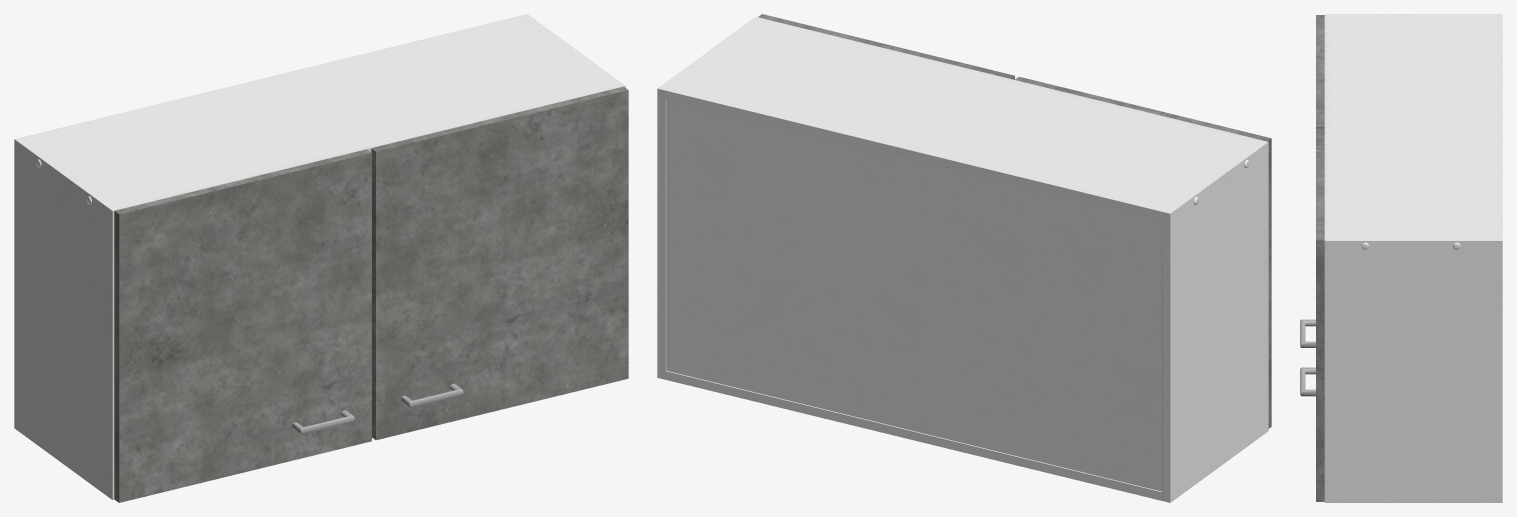
Rendered from kitchen3.glb.
3 renders of one model, left to right at view 1: azimuth 30°, elevation 25°; view 2: azimuth 150°, elevation 25°; view 3: azimuth 270°, elevation 25°, orthographic. The views are drawn at different scales.
Visible parts, largest first — view 1: #CPB0002_Wood_Gray_54x100x35_Wall_0, #CPB0002_Door_Left_2, #CPB0002_Door_Right_1; view 2: #CPB0002_Wood_Gray_54x100x35_Wall_0, #CPB0002_Door_Left_2, #CPB0002_Door_Right_1; view 3: #CPB0002_Wood_Gray_54x100x35_Wall_0, #CPB0002_Door_Right_1, #CPB0002_Door_Left_2.
Part boxes in pixels (x1=…): #CPB0002_Wood_Gray_54x100x35_Wall_0: x1=14, y1=14, x2=625, y2=499; #CPB0002_Door_Left_2: x1=114, y1=149, x2=371, y2=502; #CPB0002_Door_Right_1: x1=371, y1=86, x2=628, y2=440; #CPB0002_Wood_Gray_54x100x35_Wall_0: x1=657, y1=17, x2=1268, y2=502; #CPB0002_Door_Left_2: x1=1015, y1=76, x2=1271, y2=428; #CPB0002_Door_Right_1: x1=758, y1=14, x2=1014, y2=79; #CPB0002_Wood_Gray_54x100x35_Wall_0: x1=1324, y1=14, x2=1502, y2=502; #CPB0002_Door_Right_1: x1=1300, y1=128, x2=1324, y2=501; #CPB0002_Door_Left_2: x1=1300, y1=15, x2=1324, y2=347.
Bounding box in the file's own units: 1 × 0.536 × 0.3749.
Materials: 1 (1 with a texture image).
